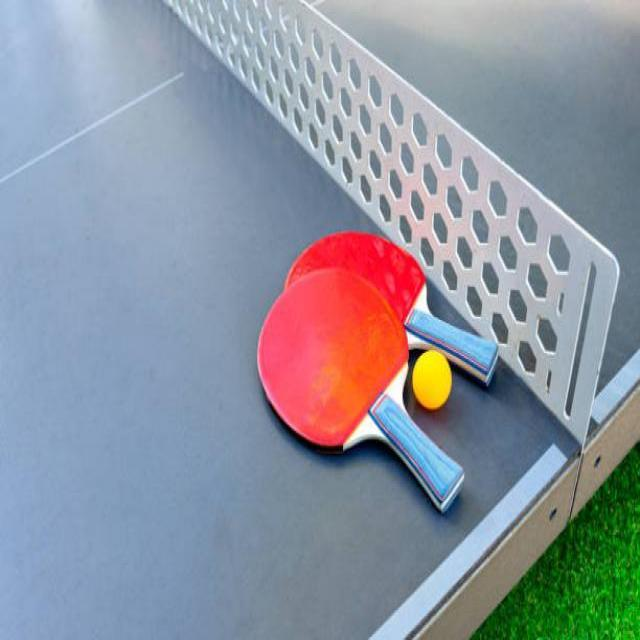oball: (411, 347, 452, 404)
